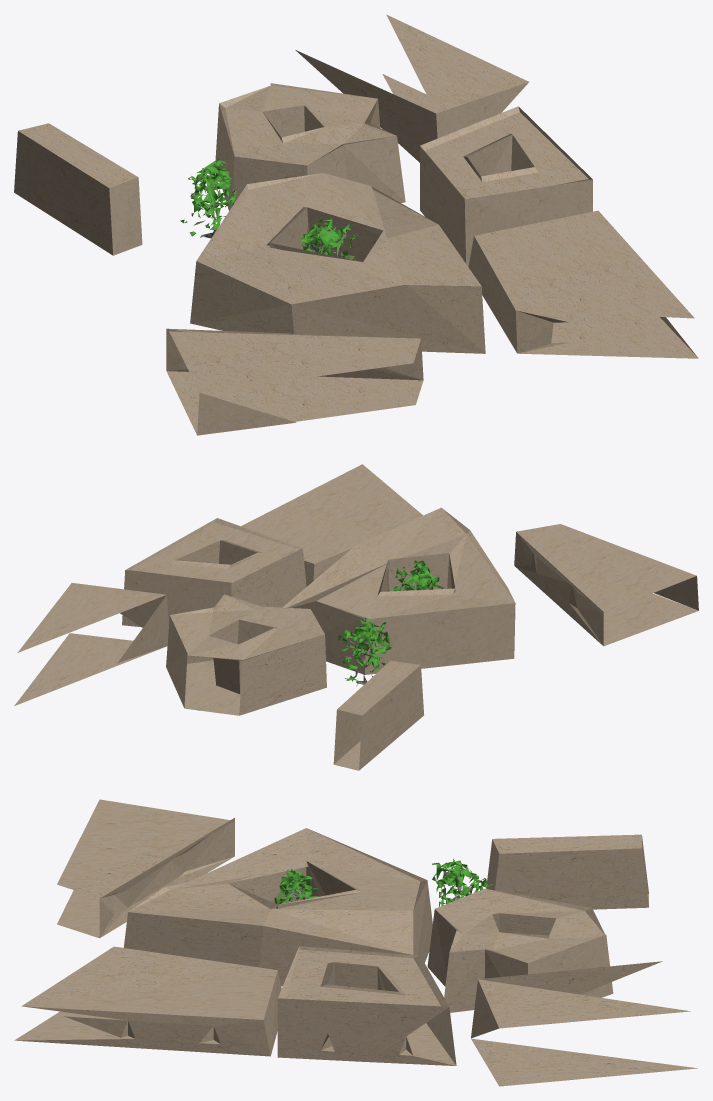
File: tile_-2_-1.gltf
3 renders of one model, top to bottom at view 1: azimuth 30°, elevation 25°; view 2: azimuth 150°, elevation 25°; view 3: azimuth 270°, elevation 25°, orthographic. The views are drawn at different scales.
Visible parts, largest first — view 1: Plane.011@tile_-2_-1, Bodhi Tree_Bodhi_front_2_Mat_0.044@tile_-2_-1; view 2: Plane.011@tile_-2_-1, Bodhi Tree_Bodhi_front_2_Mat_0.044@tile_-2_-1; view 3: Plane.011@tile_-2_-1, Bodhi Tree_Bodhi_front_2_Mat_0.044@tile_-2_-1.
Boxes of the visible parts, bbox=[...] form: Plane.011@tile_-2_-1: bbox=[14, 14, 698, 435]; Bodhi Tree_Bodhi_front_2_Mat_0.044@tile_-2_-1: bbox=[180, 158, 358, 259]; Plane.011@tile_-2_-1: bbox=[14, 464, 698, 770]; Bodhi Tree_Bodhi_front_2_Mat_0.044@tile_-2_-1: bbox=[338, 560, 444, 686]; Plane.011@tile_-2_-1: bbox=[14, 799, 697, 1086]; Bodhi Tree_Bodhi_front_2_Mat_0.044@tile_-2_-1: bbox=[274, 859, 492, 906].
Bounding box in the file's own units: 73.84 × 10.96 × 86.49.
3 materials, 2 textured.
